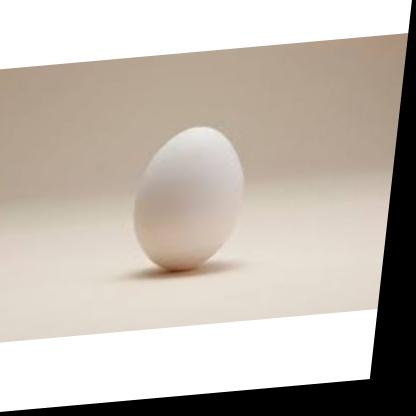egg: (127, 118, 264, 292)
